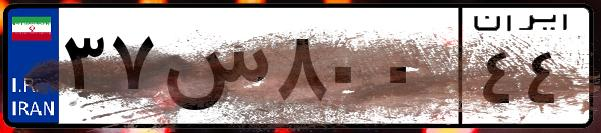0: (385, 28, 445, 110), (330, 28, 385, 110)
3: (57, 26, 110, 100)
4: (475, 38, 525, 113), (525, 38, 570, 115)
7: (110, 28, 158, 98)
8: (270, 28, 330, 110)
س: (158, 20, 270, 120)
